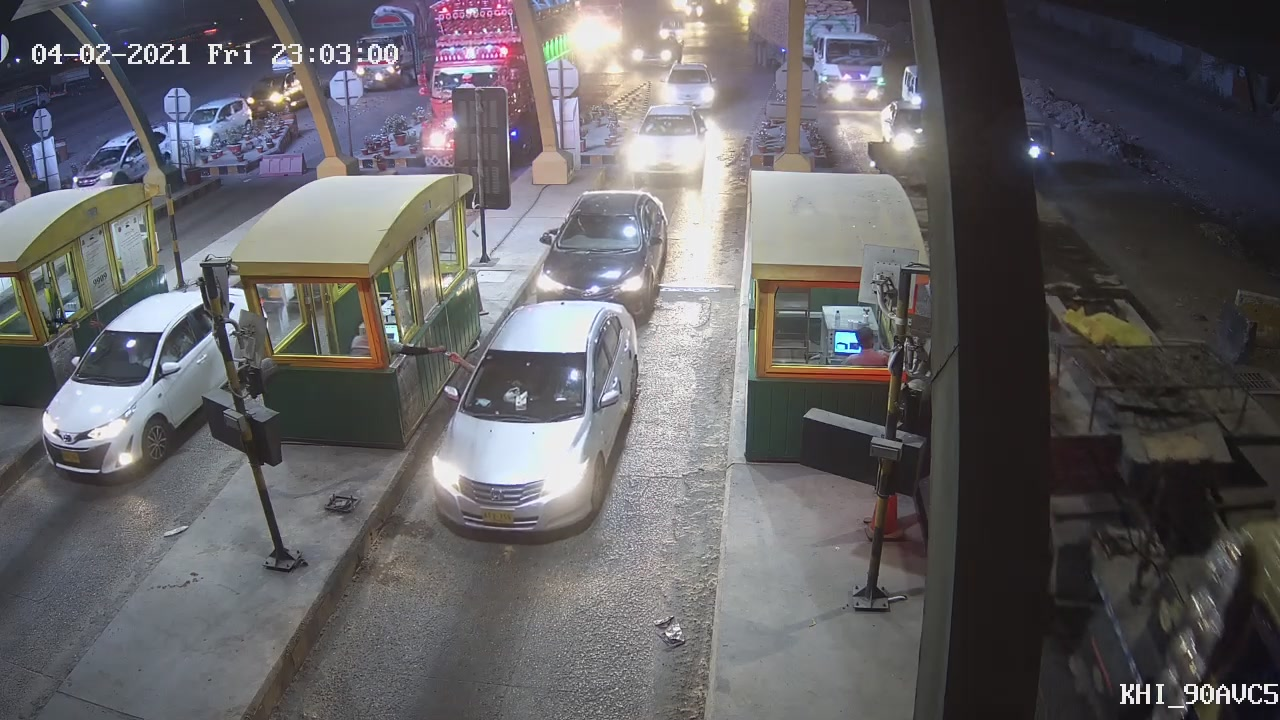F1: (424, 294, 645, 541)
